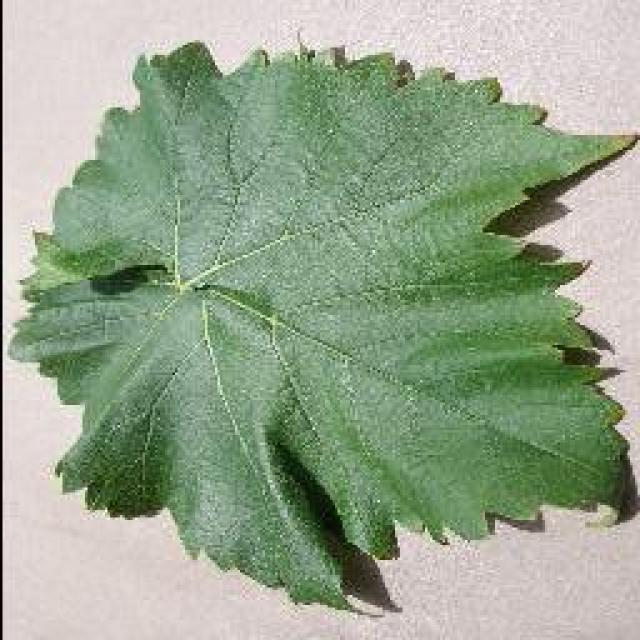Grape___healthy: (10, 42, 625, 605)
